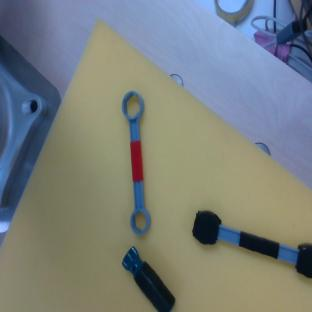part_2_bad: (117, 245, 180, 312)
part_3_good: (121, 90, 151, 235)
